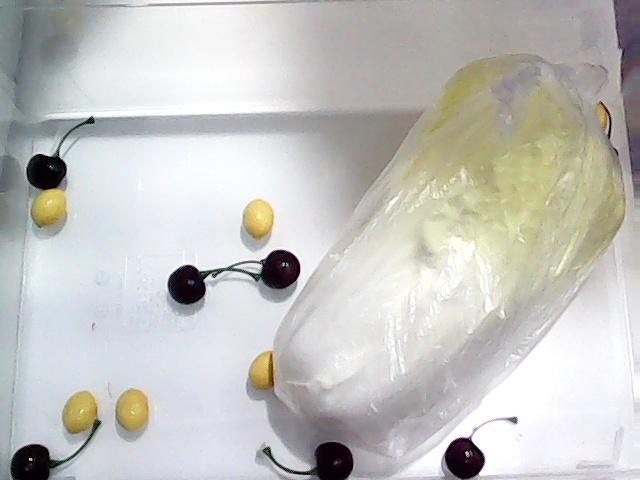napa cabbage: (265, 58, 627, 448)
